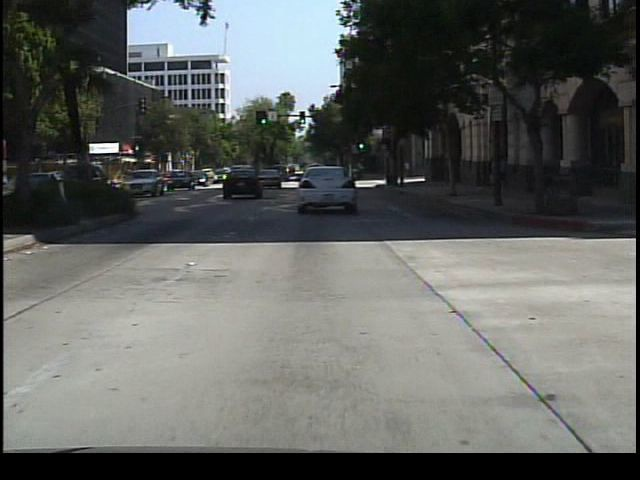person: (491, 152, 511, 202)
